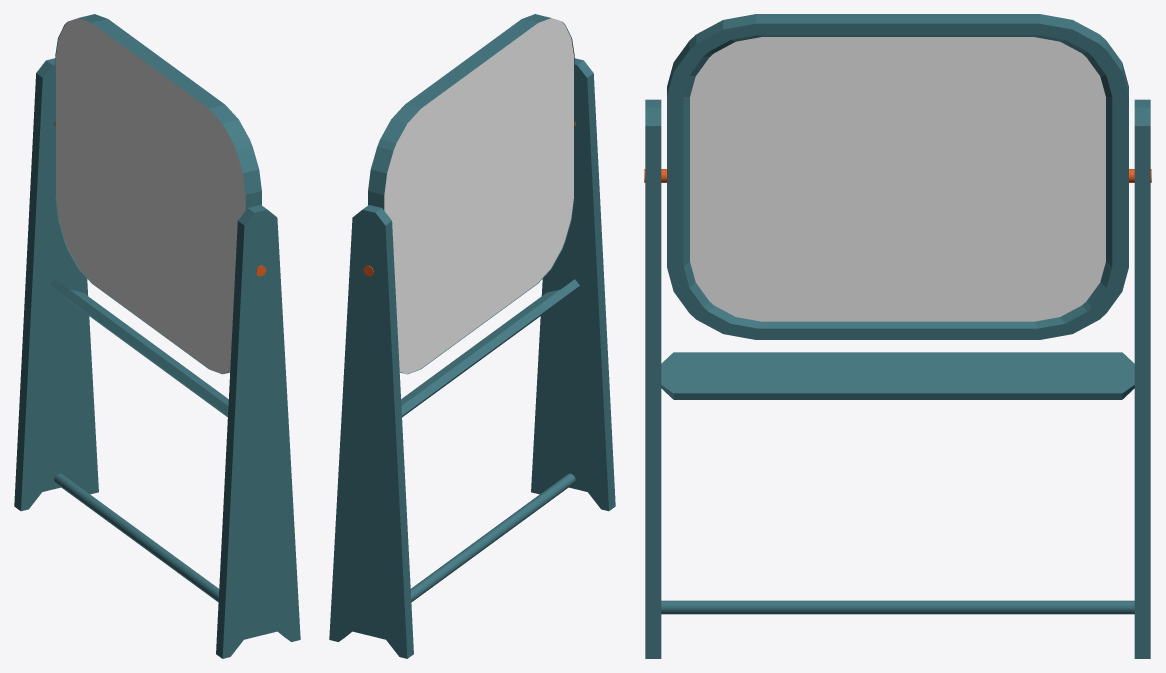
File: Whiteboard.fbx
3 views of the same model, side by side, from view 1: azimuth 30°, elevation 25°; view 2: azimuth 150°, elevation 25°; view 3: azimuth 270°, elevation 25° (orthographic). The views are drawn at different scales.
Parts seen in each view (by area): view 1: cube.006, cube..089, cube.004, Whiteboard, plane.001, cylinder.043; view 2: cube.006, cube.004, cube..089, Whiteboard, plane.001, cylinder.043; view 3: cube.006, Whiteboard, plane.001, cube..089, cube.004, cylinder.043.
Part boxes in pixels (x1,y1,x2,y2): cube.006: (56, 18, 245, 373); cube..089: (216, 205, 300, 658); cube.004: (14, 58, 98, 511); Whiteboard: (55, 14, 261, 374); plane.001: (50, 279, 228, 417); cylinder.043: (54, 473, 219, 602); cube.006: (384, 18, 573, 373); cube.004: (329, 205, 413, 658); cube..089: (531, 58, 615, 511); Whiteboard: (368, 14, 574, 374); plane.001: (401, 279, 579, 417); cylinder.043: (410, 473, 575, 602); cube.006: (690, 37, 1105, 321); Whiteboard: (667, 14, 1128, 339); plane.001: (661, 352, 1134, 399); cube..089: (645, 99, 661, 658); cube.004: (1134, 99, 1150, 658); cylinder.043: (661, 600, 1134, 614).
Bounding box in the file's own units: 219 × 1365 × 1017.
